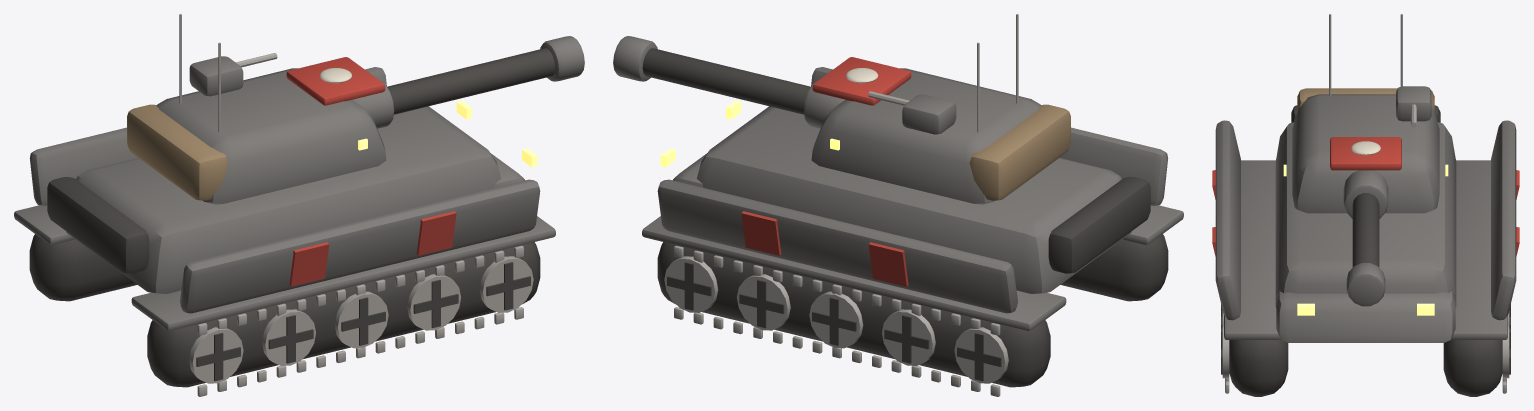
The model's file is hum_tanque.glb.
3 renders of one model, left to right at view 1: azimuth 30°, elevation 25°; view 2: azimuth 150°, elevation 25°; view 3: azimuth 270°, elevation 25°, orthographic. The views are drawn at different scales.
Visible parts, largest first — view 1: hum_tanque, turret_m, wheel_r0_m, wheel_r2_m, wheel_r1_m, wheel_r3_m, wheel_r4_m, treadb_r_m, treadf_r_m; view 2: hum_tanque, turret_m, wheel_l0_m, wheel_l2_m, wheel_l1_m, wheel_l3_m, wheel_l4_m, treadb_l_m, treadf_l_m; view 3: hum_tanque, turret_m, wheel_l4_m, wheel_r4_m.
Part boxes in pixels (x1,y1,x2,y2): hum_tanque: (14, 67, 555, 387); turret_m: (127, 14, 584, 204); wheel_r0_m: (189, 327, 243, 383); wheel_r2_m: (334, 291, 388, 348); wheel_r1_m: (262, 309, 315, 365); wheel_r3_m: (407, 274, 460, 330); wheel_r4_m: (479, 256, 533, 312); treadb_r_m: (197, 307, 523, 396); treadf_r_m: (197, 245, 523, 335); hum_tanque: (642, 67, 1183, 387); turret_m: (613, 14, 1070, 204); wheel_l0_m: (954, 327, 1008, 383); wheel_l2_m: (809, 291, 863, 348); wheel_l1_m: (882, 309, 935, 365); wheel_l3_m: (737, 274, 790, 330); wheel_l4_m: (664, 256, 718, 312); treadb_l_m: (674, 307, 1000, 396); treadf_l_m: (674, 245, 1000, 335); hum_tanque: (1212, 105, 1519, 396); turret_m: (1283, 14, 1448, 306); wheel_l4_m: (1502, 324, 1510, 378); wheel_r4_m: (1221, 324, 1229, 378).
Bounding box in the file's own units: 1.74 × 0.9925 × 1.03.
